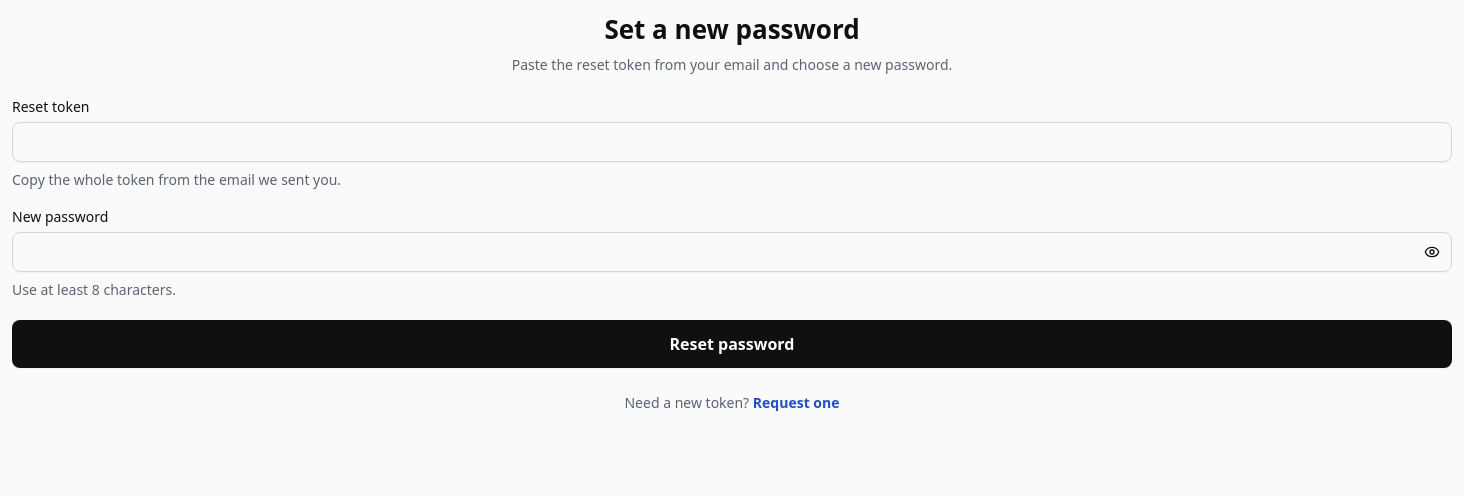
Test: ResetPasswordForm › shows one message for a bad token and keeps the form
The image size is (1464, 496).
In the field labelled "Reset token": (732, 142) x1=12 y1=122 x2=1452 y2=162, type "q7Xv2mZk9LwR4tYb1NcH8sJd5GfP3aUe6oIi0TrKyQw"
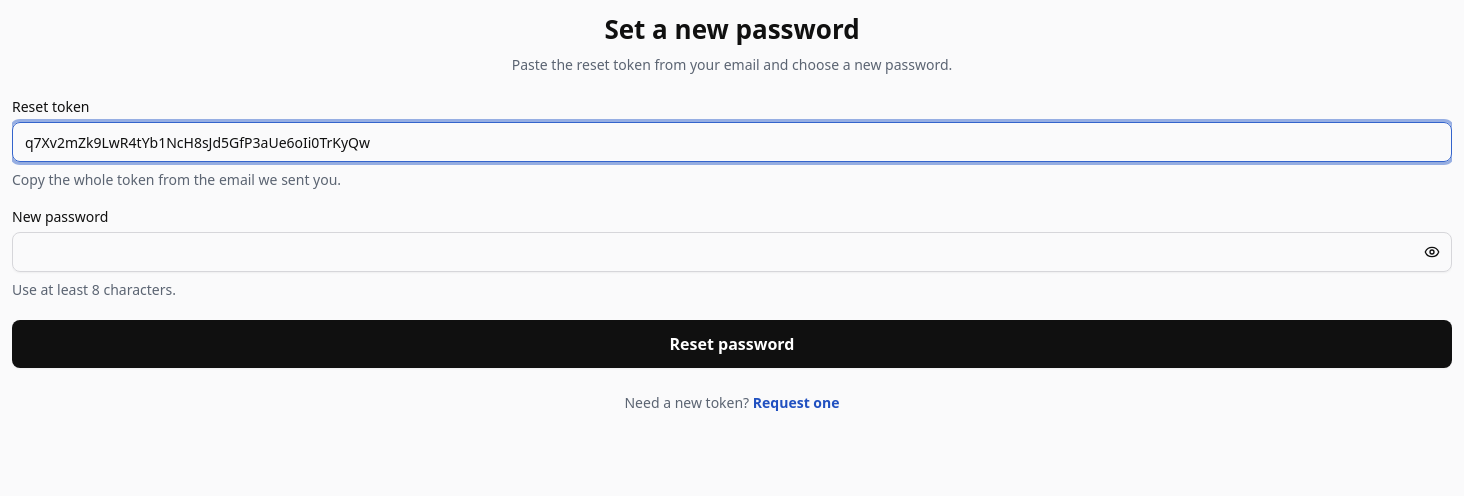
In the password field labelled "New password": (732, 252) x1=12 y1=232 x2=1452 y2=272, type "brand-new-pass"
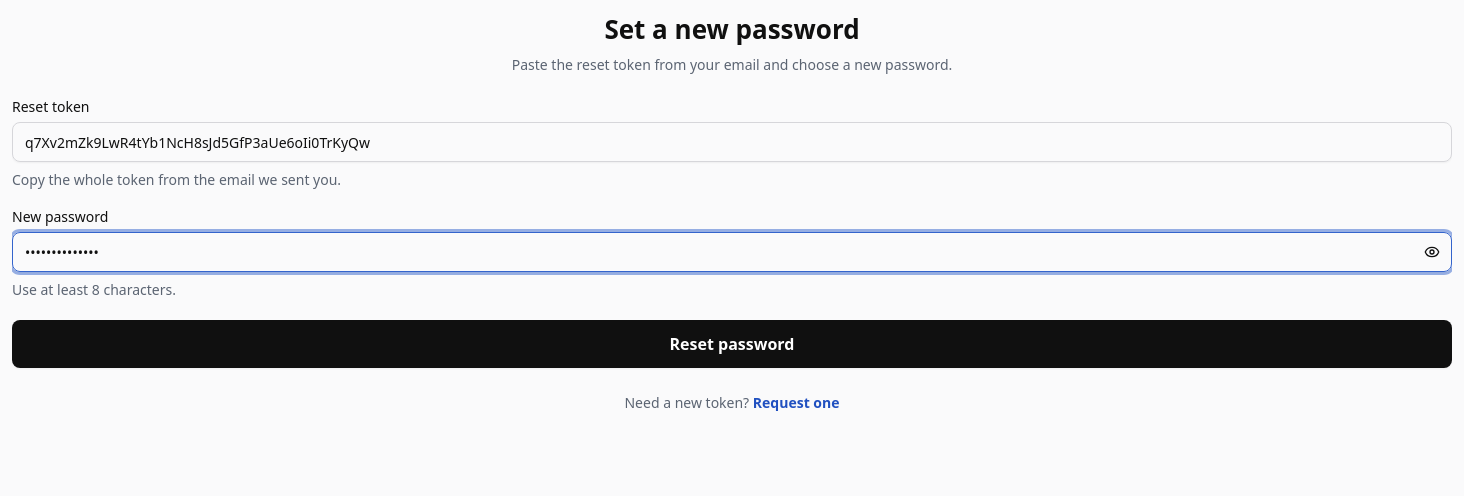
Click the button "Reset password": (732, 344) x1=12 y1=320 x2=1452 y2=368
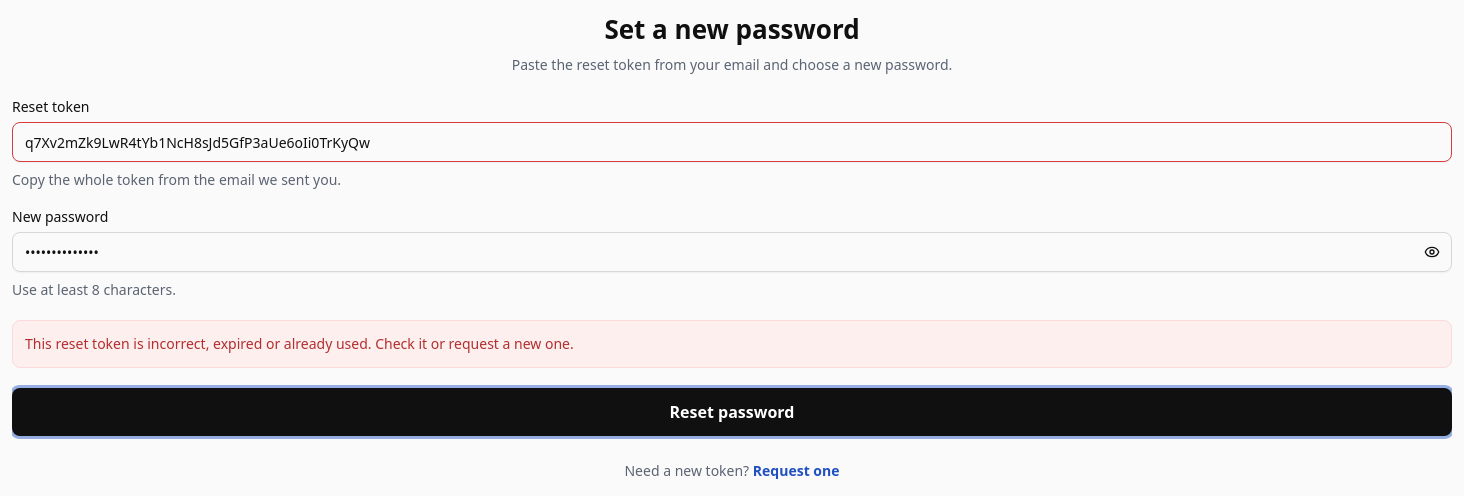
Result: the message shows "This reset token is incorrect, expired or already used. Check it or request a new one." at x1=25 y1=334 x2=574 y2=353
